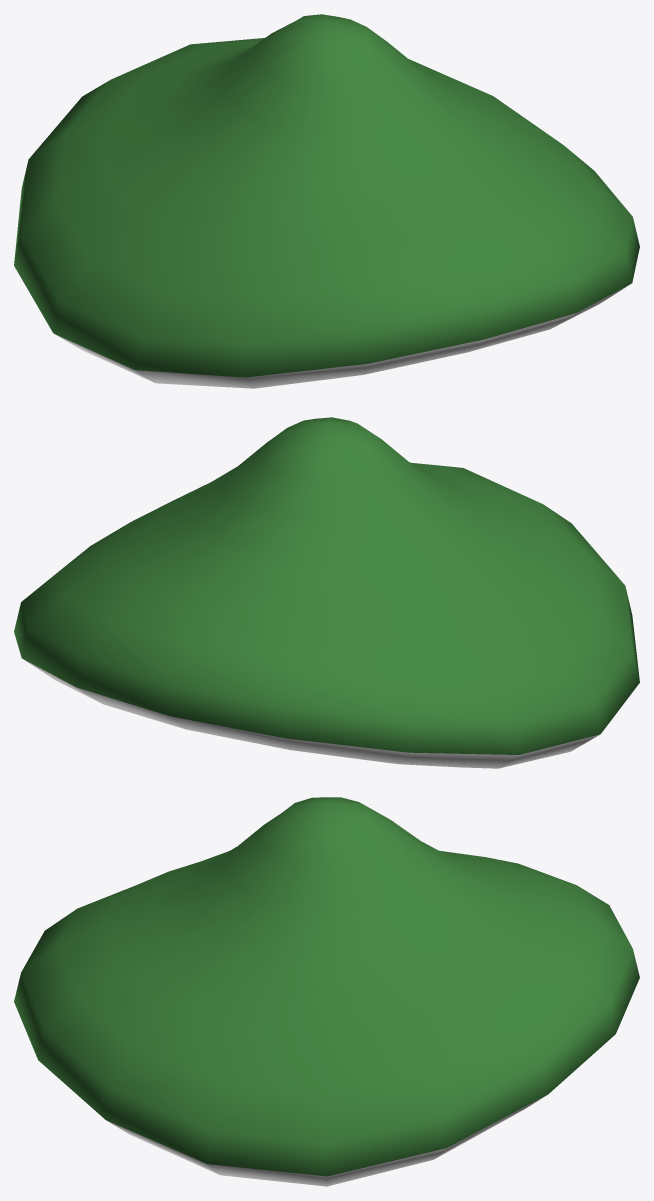
Rendered from mushroom.fbx.
3 renders of one model, top to bottom at view 1: azimuth 30°, elevation 25°; view 2: azimuth 150°, elevation 25°; view 3: azimuth 270°, elevation 25°, orthographic.
Visible parts, largest first — view 1: mushroom; view 2: mushroom; view 3: mushroom.
Part boxes in pixels (<box>): mushroom: <box>14,14,639,388</box>; mushroom: <box>14,417,639,768</box>; mushroom: <box>14,797,639,1186</box>.
Size of the model in its own units: 183 by 94.01 by 183.
